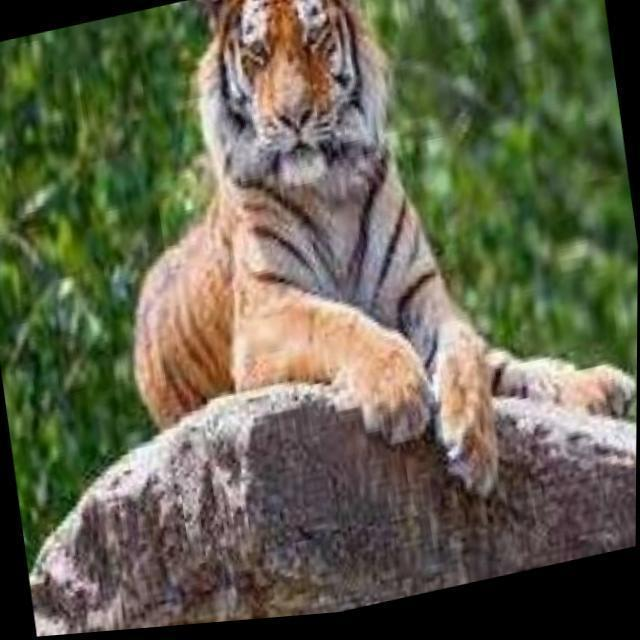tiger: (130, 0, 635, 499)
